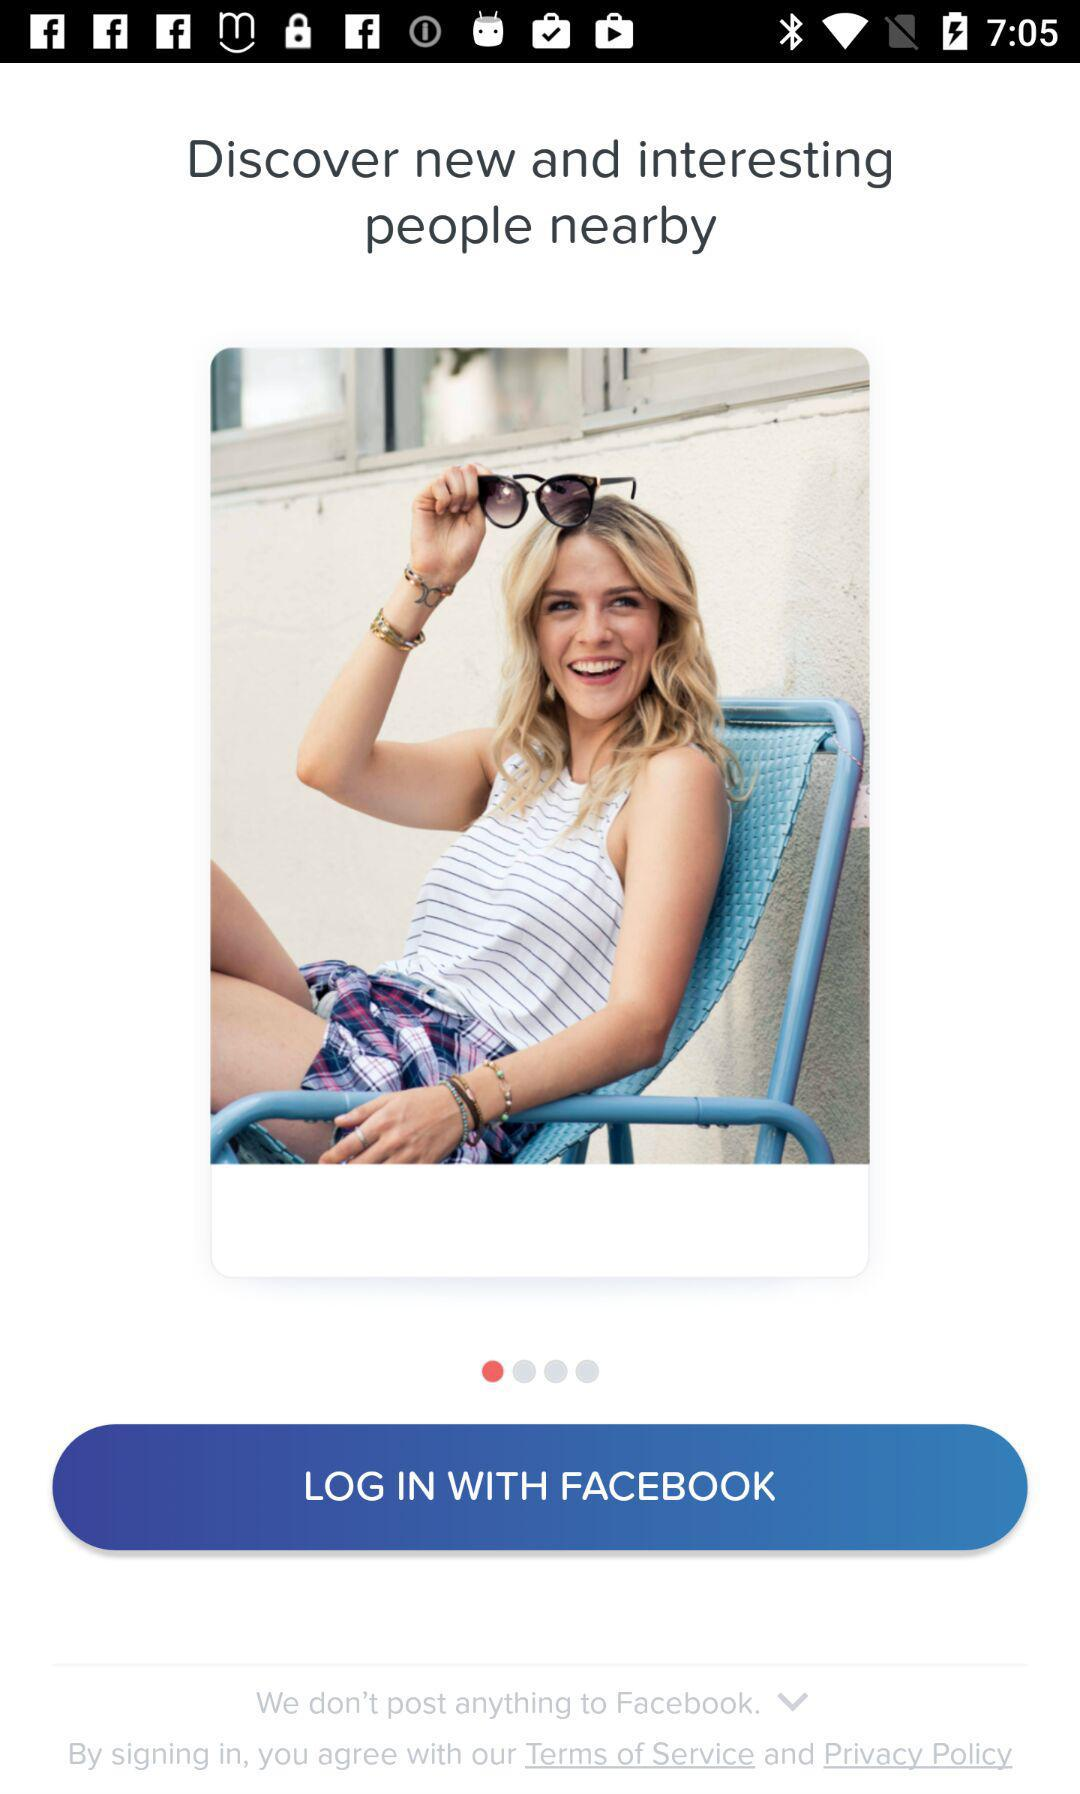Icon: (776, 1691, 808, 1713)
Image: (210, 347, 871, 1281)
PageIndicator: (480, 1358, 601, 1385)
Text: (190, 138, 893, 256), (70, 1741, 1013, 1771), (256, 1691, 761, 1720)
TextButton: (53, 1422, 1029, 1551)
UpperTaskBar: (1, 1, 1080, 64)
